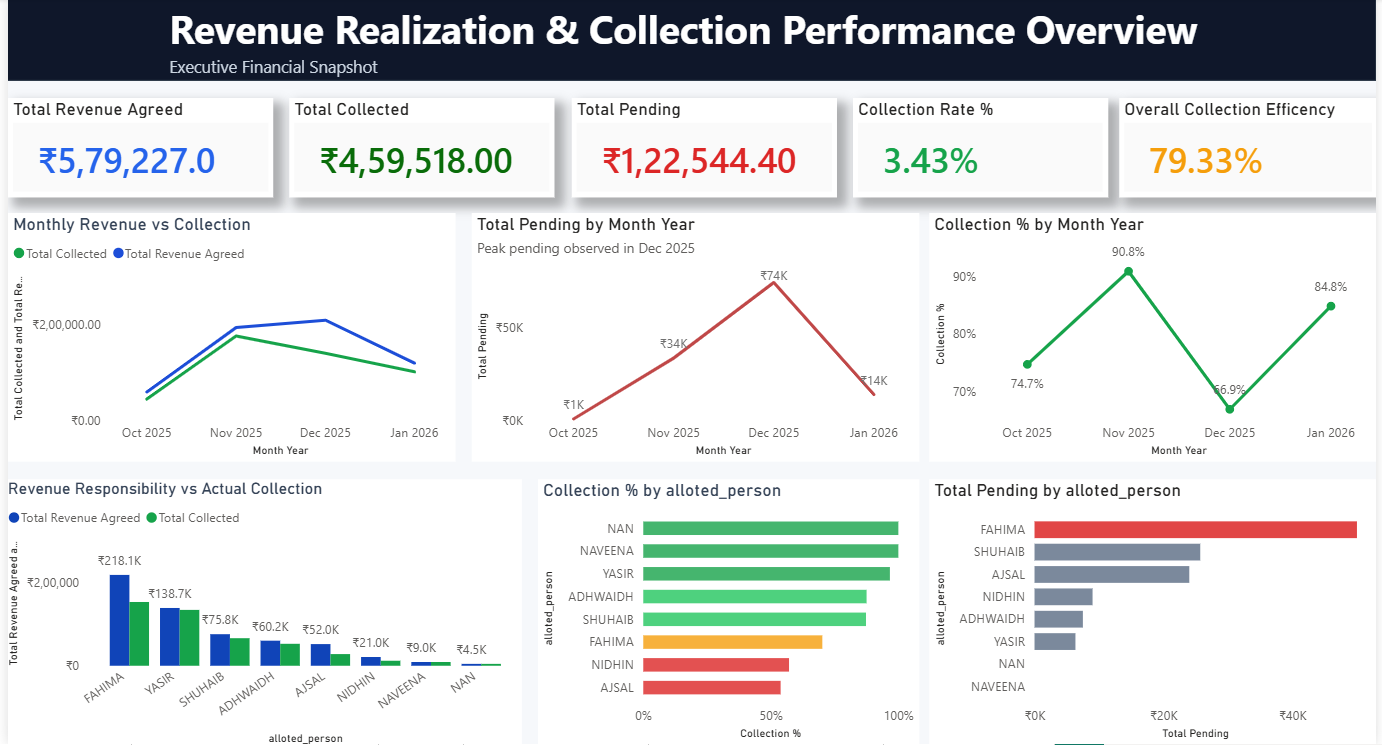

The dashboard page shown, as its layout file describes it:
{"tool":"powerbi","page":{"name":" Executive Financial Overview","canvas":[1321,720],"ordinal":1},"visuals":[{"type":"cardVisual","title":"Total Revenue Agreed","fields":{"Data":["invoice.Total Revenue Agreed"]},"box":[0,96,256,96],"z":0},{"type":"shape","box":[-7,0,1328,80],"z":1000},{"type":"cardVisual","title":"Total Collected","fields":{"Data":["invoice.Total Collected"]},"box":[272,96,256,96],"z":2000},{"type":"cardVisual","title":"Total Pending","fields":{"Data":["invoice.Total Pending"]},"box":[544,96,256,96],"z":3000},{"type":"cardVisual","title":"Collection Rate %","fields":{"Data":["invoice.Collection Rate %"]},"box":[816,96,246,96],"z":4000},{"type":"cardVisual","title":"Overall Collection Efficency","fields":{"Data":["invoice.Overall Collection Efficiency"]},"box":[1072,96,249,96],"z":5000},{"type":"lineChart","fields":{"Category":["Dim_Month.Month Year"],"Y":["invoice.Total Pending"]},"box":[448,208,432,240],"z":8000},{"type":"lineChart","fields":{"Category":["Dim_Month.Month Year"],"Y":["invoice.Collection %"]},"box":[889,208,432,240],"z":9000},{"type":"lineChart","title":"Monthly Revenue vs Collection","fields":{"Category":["Dim_Month.Month Year"],"Y":["invoice.Total Collected","invoice.Total Revenue Agreed"]},"box":[0,208,432,240],"z":10000},{"type":"textbox","box":[-7.2,0,1328.3,119.4],"z":11000},{"type":"clusteredColumnChart","title":"Revenue Responsibility vs Actual Collection","fields":{"Category":["Dim_Salesperson.alloted_person"],"Y":["invoice.Total Revenue Agreed","invoice.Total Collected"]},"box":[0,464,496,256],"z":12000},{"type":"clusteredBarChart","fields":{"Category":["Dim_Salesperson.alloted_person"],"Y":["invoice.Collection %"]},"box":[512,464,368,256],"z":13000},{"type":"clusteredBarChart","fields":{"Category":["Dim_Salesperson.alloted_person"],"Y":["invoice.Total Pending"]},"box":[889,464,432,256],"z":14000}]}

Visuals, with their boxes in screenshot pixels (x1, y1, x2, y2), scaled from the page's 1321x720 canvas onto the 1382x745 screenshot:
"Total Revenue Agreed" cardVisual: l=0, t=99, r=268, b=199
shape: l=0, t=0, r=1381, b=83
"Total Collected" cardVisual: l=285, t=99, r=552, b=199
"Total Pending" cardVisual: l=569, t=99, r=837, b=199
"Collection Rate %" cardVisual: l=854, t=99, r=1111, b=199
"Overall Collection Efficency" cardVisual: l=1122, t=99, r=1381, b=199
lineChart - Dim_Month.Month Year x invoice.Total Pending: l=469, t=215, r=921, b=464
lineChart - Dim_Month.Month Year x invoice.Collection %: l=930, t=215, r=1381, b=464
"Monthly Revenue vs Collection" lineChart: l=0, t=215, r=452, b=464
textbox: l=0, t=0, r=1381, b=124
"Revenue Responsibility vs Actual Collection" clusteredColumnChart: l=0, t=480, r=519, b=744
clusteredBarChart - Dim_Salesperson.alloted_person x invoice.Collection %: l=536, t=480, r=921, b=744
clusteredBarChart - Dim_Salesperson.alloted_person x invoice.Total Pending: l=930, t=480, r=1381, b=744
